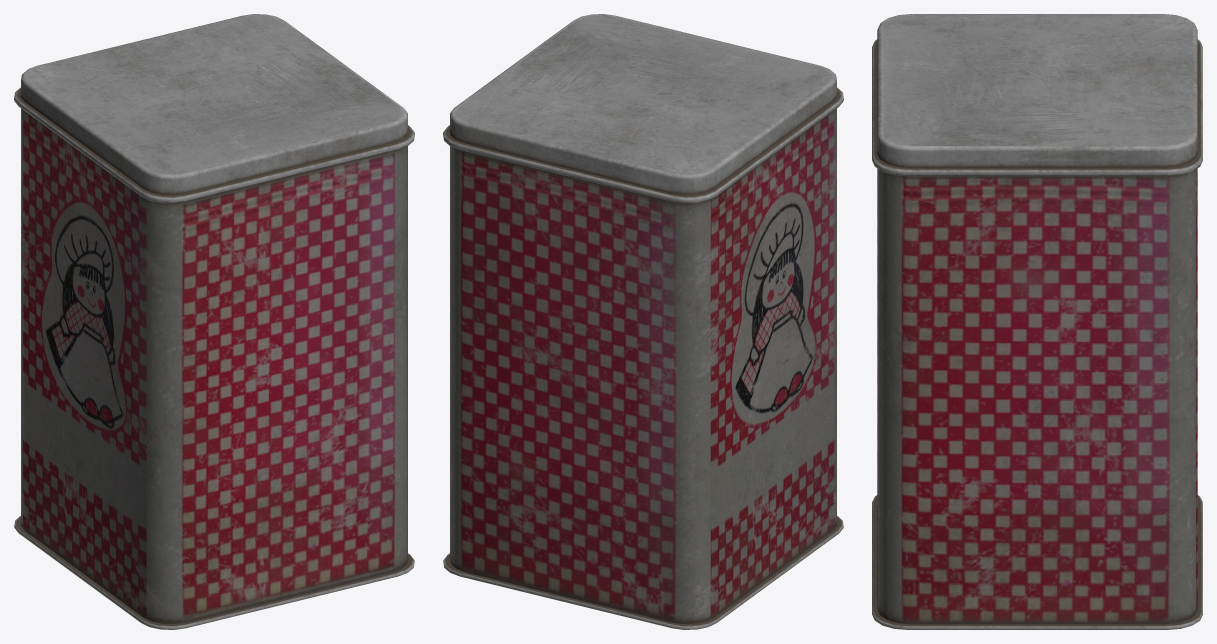
Rendered from soviet_era_kitchen_tin_container.glb.
The picture shows the model from 3 angles, left to right: view 1: azimuth 30°, elevation 25°; view 2: azimuth 150°, elevation 25°; view 3: azimuth 270°, elevation 25°; orthographic projection. The views are drawn at different scales.
Parts seen in each view (by area): view 1: Base, Cap; view 2: Base, Cap; view 3: Base, Cap.
Boxes of the visible parts, x1,y1,x2,y2 form: Base: [14, 108, 414, 629]; Cap: [14, 14, 414, 203]; Base: [443, 108, 843, 629]; Cap: [443, 14, 843, 203]; Base: [872, 168, 1202, 629]; Cap: [872, 14, 1202, 176].
Bounding box in the file's own units: 110 × 176 × 110.
1 material, 1 textured.
